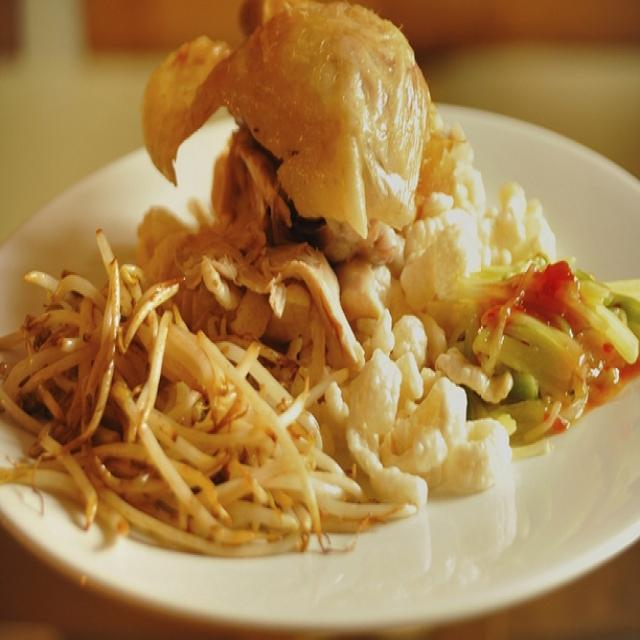面条主食: (33, 170, 594, 564)
